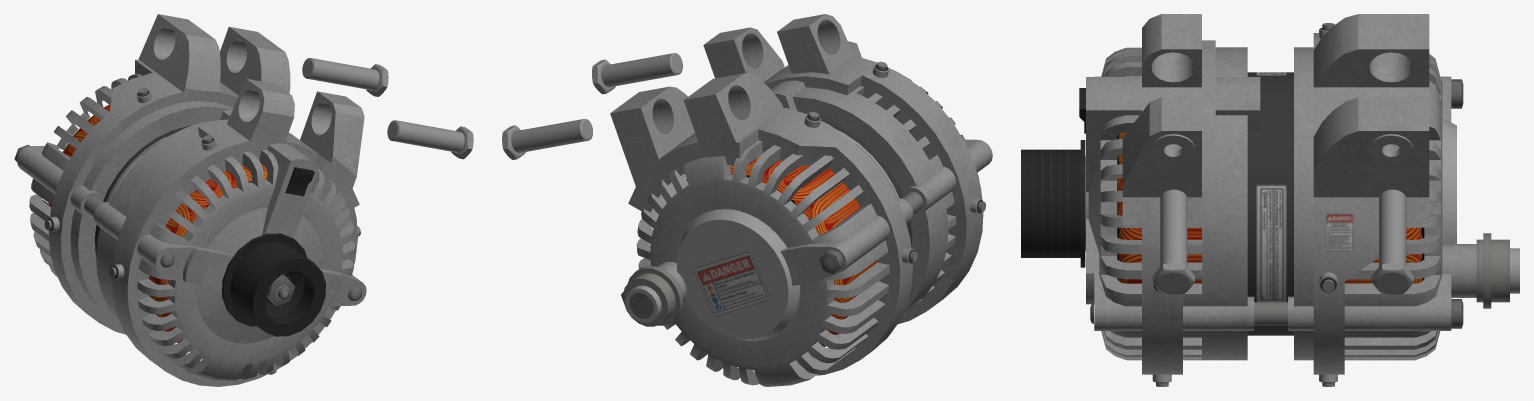
The model's file is alter.glb.
The picture shows the model from 3 angles, left to right: view 1: azimuth 30°, elevation 25°; view 2: azimuth 150°, elevation 25°; view 3: azimuth 270°, elevation 25°; orthographic projection. The views are drawn at different scales.
Parts seen in each view (by area): view 1: alternator(0), Obj_srubaSilnikDluga_0, srubaSilnikDluga_0, Object001; view 2: alternator(0), Object001, Obj_srubaSilnikDluga_0, srubaSilnikDluga_0; view 3: alternator(0), srubaSilnikDluga_0, Obj_srubaSilnikDluga_0, Object001.
Boxes of the visible parts, x1,y1,x2,y2 form: alternator(0): [14, 14, 366, 386]; Obj_srubaSilnikDluga_0: [302, 58, 388, 96]; srubaSilnikDluga_0: [387, 120, 473, 159]; Object001: [48, 104, 267, 351]; alternator(0): [610, 14, 992, 386]; Object001: [686, 155, 877, 355]; Obj_srubaSilnikDluga_0: [502, 119, 592, 159]; srubaSilnikDluga_0: [592, 53, 682, 94]; alternator(0): [1021, 14, 1519, 386]; srubaSilnikDluga_0: [1152, 189, 1194, 294]; Obj_srubaSilnikDluga_0: [1371, 189, 1413, 294]; Object001: [1117, 132, 1424, 283].
Size of the model in its own units: 0.0041 by 0.00308 by 0.00379.
3 materials, 3 textured.
